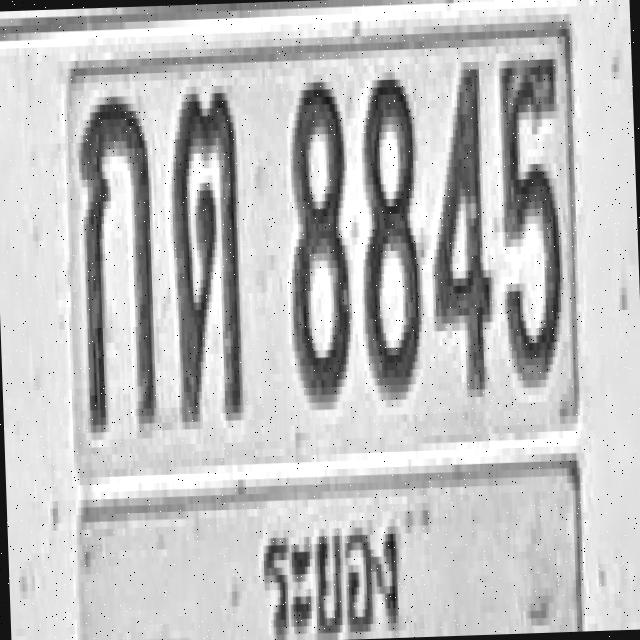10GorGai: (76, 88, 157, 432)
30TorTao: (168, 85, 245, 422)
4: (426, 53, 494, 390)
5: (496, 52, 568, 380)
8: (285, 74, 352, 402), (356, 71, 423, 393)
Rayong: (248, 490, 414, 640)
